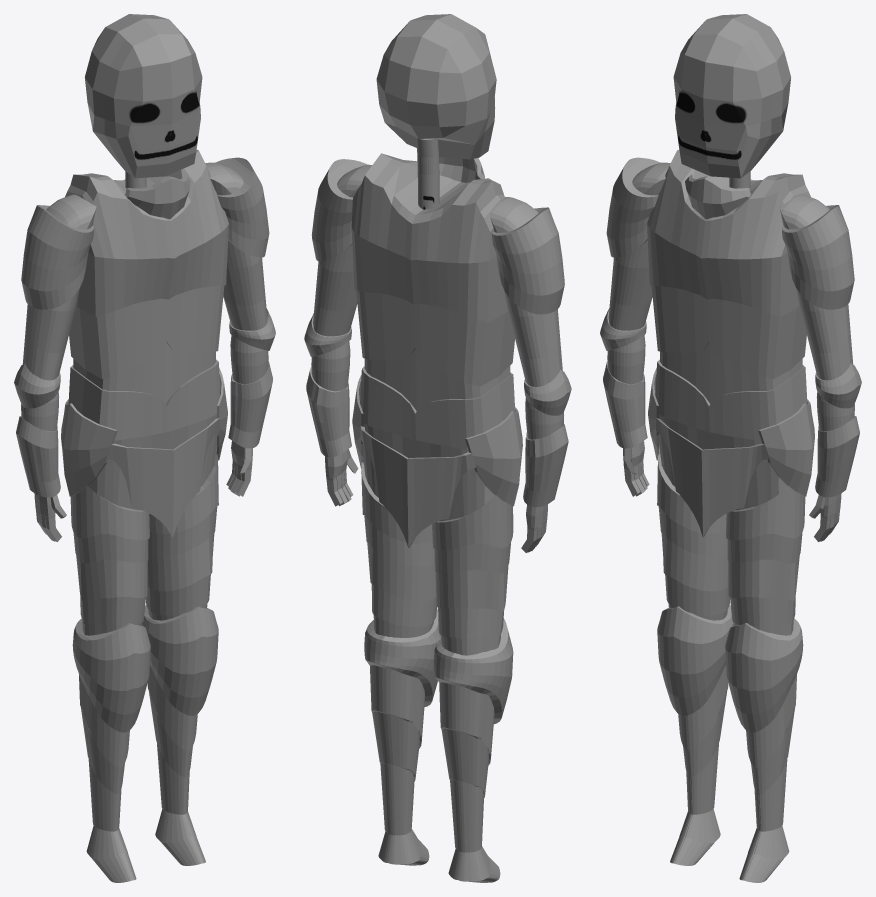
The model's file is detalhes.fbx.
3 views of the same model, side by side, from view 1: azimuth 30°, elevation 25°; view 2: azimuth 150°, elevation 25°; view 3: azimuth 330°, elevation 25° (orthographic). The views are drawn at different scales.
Parts seen in each view (by area): view 1: Cube.001, Cylinder.001, Cylinder, Cube.004, Cube.002, Cylinder.006, Cylinder.002, Cylinder.004, Cylinder.005, Cylinder.003, Cylinder.007, Cube.003; view 2: Cube.001, Cylinder.001, Cylinder, Cube.004, Cube.002, Cylinder.006, Cylinder.002, Cylinder.004, Cylinder.005, Cylinder.003, Cylinder.007, Cylinder.008 (+1 smaller); view 3: Cube.001, Cylinder.001, Cylinder, Cube.004, Cube.002, Cylinder.006, Cylinder.002, Cylinder.004, Cylinder.005, Cylinder.003, Cylinder.007, Cube.003.
Boxes of the visible parts, box(x1,y1,x2,y2) form: Cube.001: box(65, 150, 228, 510); Cylinder.001: box(72, 605, 218, 882); Cylinder: box(70, 450, 218, 635); Cube.004: box(84, 14, 202, 178); Cube.002: box(61, 367, 227, 537); Cylinder.006: box(21, 157, 269, 309); Cylinder.002: box(22, 162, 267, 380); Cylinder.004: box(16, 360, 272, 497); Cylinder.005: box(21, 335, 268, 431); Cylinder.003: box(14, 308, 275, 408); Cylinder.007: box(34, 441, 252, 541); Cube.003: box(125, 174, 190, 219); Cube.001: box(351, 153, 515, 521); Cylinder.001: box(364, 608, 513, 882); Cylinder: box(361, 462, 513, 655); Cube.004: box(376, 14, 496, 159); Cube.002: box(352, 374, 522, 547); Cylinder.006: box(311, 159, 564, 314); Cylinder.002: box(313, 164, 562, 386); Cylinder.004: box(306, 366, 568, 507); Cylinder.005: box(311, 341, 563, 439); Cylinder.003: box(304, 313, 571, 415); Cylinder.007: box(325, 449, 547, 552); Cylinder.008: box(416, 137, 439, 209); Cube.001: box(647, 150, 810, 510); Cylinder.001: box(657, 605, 803, 882); Cylinder: box(657, 450, 805, 635); Cube.004: box(673, 14, 791, 178); Cube.002: box(648, 367, 814, 537); Cylinder.006: box(606, 157, 854, 309); Cylinder.002: box(608, 162, 853, 380); Cylinder.004: box(603, 360, 859, 497); Cylinder.005: box(607, 335, 854, 431); Cylinder.003: box(600, 308, 861, 408); Cylinder.007: box(623, 441, 841, 541); Cube.003: box(685, 174, 750, 219).
Size of the model in its own units: 151 by 480 by 62.33.
Materials: 2 (1 with a texture image).
